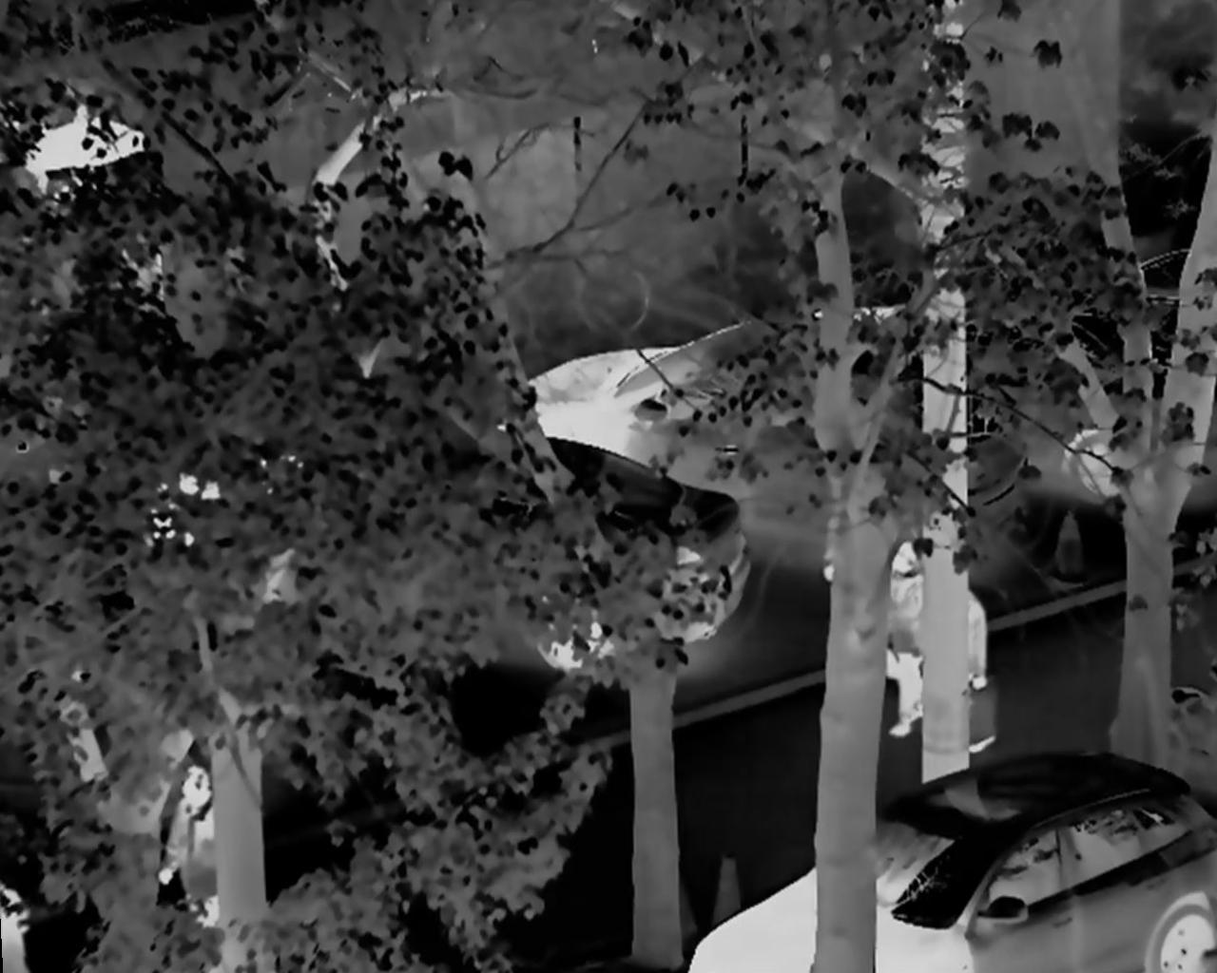person: (151, 761, 259, 973), (933, 562, 1002, 795), (868, 540, 922, 732)
